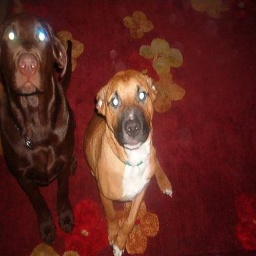dog: (1, 11, 170, 256)
